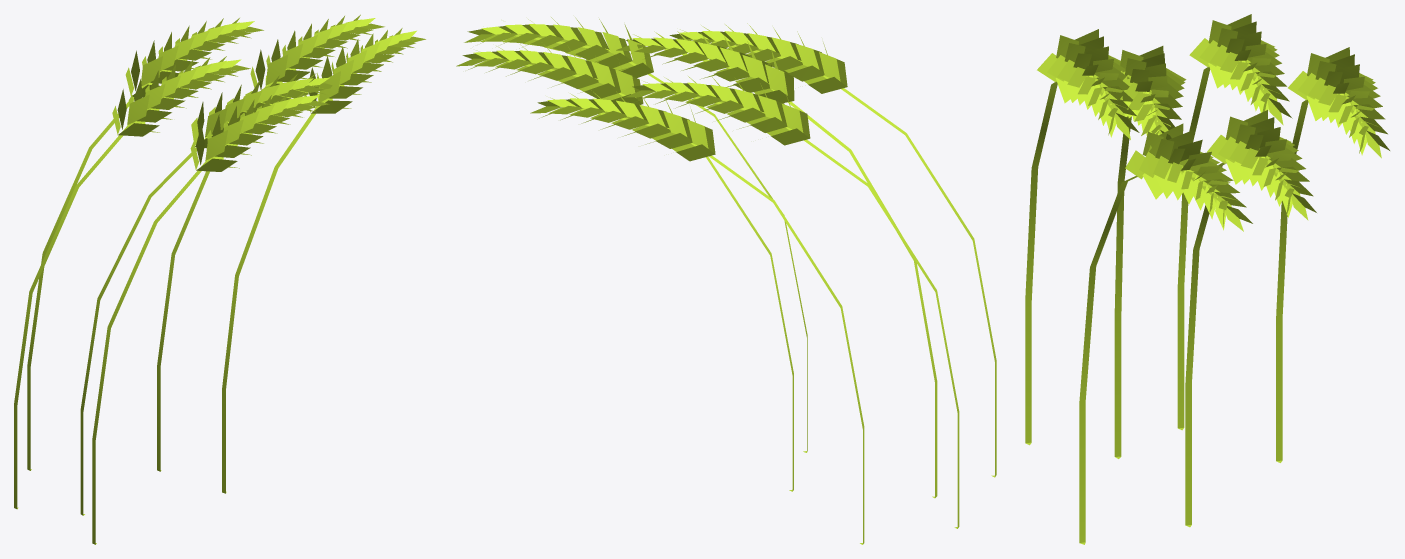
Rendered from Prairie.fbx.
The picture shows the model from 3 angles, left to right: view 1: azimuth 30°, elevation 25°; view 2: azimuth 150°, elevation 25°; view 3: azimuth 270°, elevation 25°; orthographic projection. The views are drawn at different scales.
Parts seen in each view (by area): view 1: Ble_Low_2_1__Copy_, Ble_Low_2_0__Copy_, Ble_Low_2_4__Copy_, Ble_Low_2_3__Copy_, Ble_Low_2_5__Copy_, Ble_Low_2_2__Copy_; view 2: Ble_Low_2_1__Copy_, Ble_Low_2_3__Copy_, Ble_Low_2_2__Copy_, Ble_Low_2_0__Copy_, Ble_Low_2_5__Copy_, Ble_Low_2_4__Copy_; view 3: Ble_Low_2_4__Copy_, Ble_Low_2_0__Copy_, Ble_Low_2_5__Copy_, Ble_Low_2_1__Copy_, Ble_Low_2_3__Copy_, Ble_Low_2_2__Copy_.
Boxes of the visible parts, x1,y1,x2,y2 form: Ble_Low_2_1__Copy_: [14, 56, 250, 509]; Ble_Low_2_0__Copy_: [92, 91, 329, 544]; Ble_Low_2_4__Copy_: [222, 28, 425, 493]; Ble_Low_2_3__Copy_: [27, 18, 263, 470]; Ble_Low_2_5__Copy_: [157, 14, 384, 471]; Ble_Low_2_2__Copy_: [80, 73, 339, 515]; Ble_Low_2_1__Copy_: [624, 76, 959, 528]; Ble_Low_2_3__Copy_: [530, 90, 864, 544]; Ble_Low_2_2__Copy_: [616, 31, 937, 498]; Ble_Low_2_0__Copy_: [669, 23, 996, 477]; Ble_Low_2_5__Copy_: [456, 44, 793, 491]; Ble_Low_2_4__Copy_: [464, 17, 807, 452]; Ble_Low_2_4__Copy_: [1079, 123, 1252, 544]; Ble_Low_2_0__Copy_: [1025, 29, 1139, 445]; Ble_Low_2_5__Copy_: [1185, 110, 1316, 527]; Ble_Low_2_1__Copy_: [1177, 14, 1292, 430]; Ble_Low_2_3__Copy_: [1276, 47, 1389, 462]; Ble_Low_2_2__Copy_: [1114, 46, 1186, 458].
Bounding box in the file's own units: 51.58 × 43.3 × 28.03.
